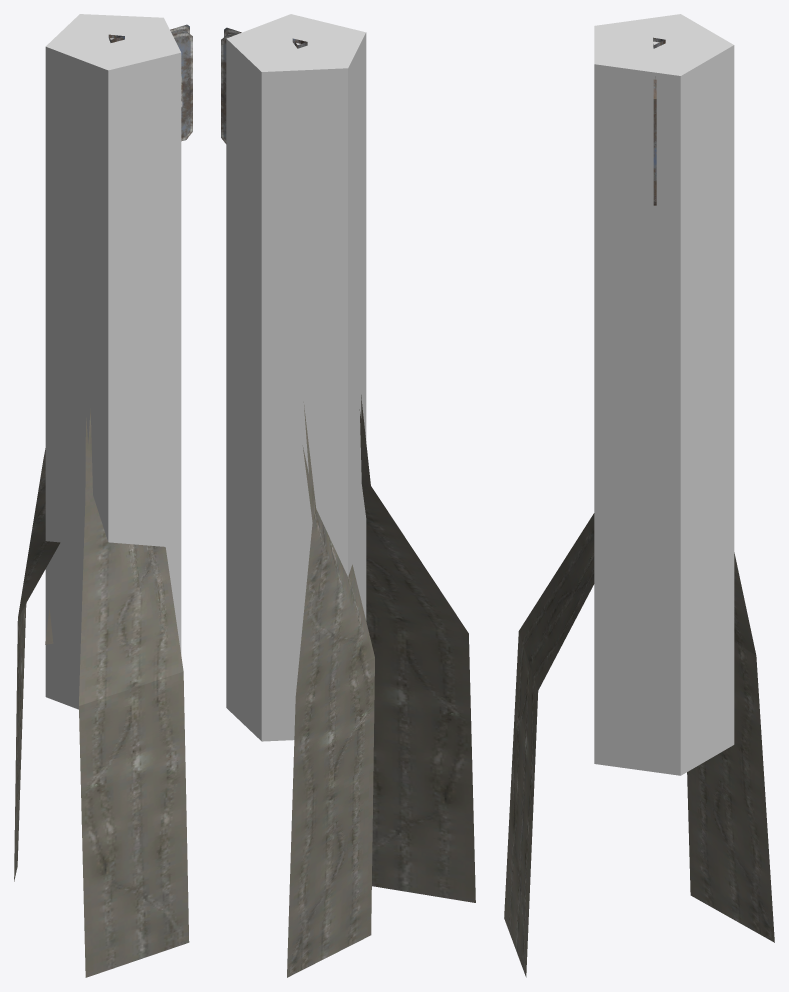
File: bussign.dae
3 views of the same model, side by side, from view 1: azimuth 30°, elevation 25°; view 2: azimuth 150°, elevation 25°; view 3: azimuth 270°, elevation 25° (orthographic). The views are drawn at different scales.
Visible parts, largest first — view 1: Colmesh-1, bussign_a200, bussign_a30; view 2: Colmesh-1, bussign_a200, bussign_a30; view 3: Colmesh-1, bussign_a200, bussign_a30.
Boxes of the visible parts, x1=… form: Colmesh-1: x1=45, y1=14, x2=181, y2=709; bussign_a200: x1=14, y1=30, x2=192, y2=977; bussign_a30: x1=18, y1=24, x2=189, y2=705; Colmesh-1: x1=226, y1=14, x2=366, y2=741; bussign_a200: x1=221, y1=34, x2=475, y2=977; bussign_a30: x1=224, y1=27, x2=374, y2=662; Colmesh-1: x1=594, y1=14, x2=734, y2=775; bussign_a200: x1=504, y1=79, x2=774, y2=977; bussign_a30: x1=519, y1=37, x2=756, y2=690.
Size of the model in its own units: 1.13 by 1.39 by 5.28.
